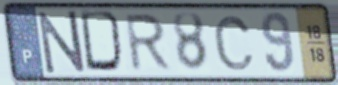8: (171, 10, 208, 76)
9: (258, 9, 297, 77)
C: (211, 13, 257, 73)
D: (77, 8, 128, 77)
N: (36, 9, 88, 77)
R: (124, 12, 174, 74)
